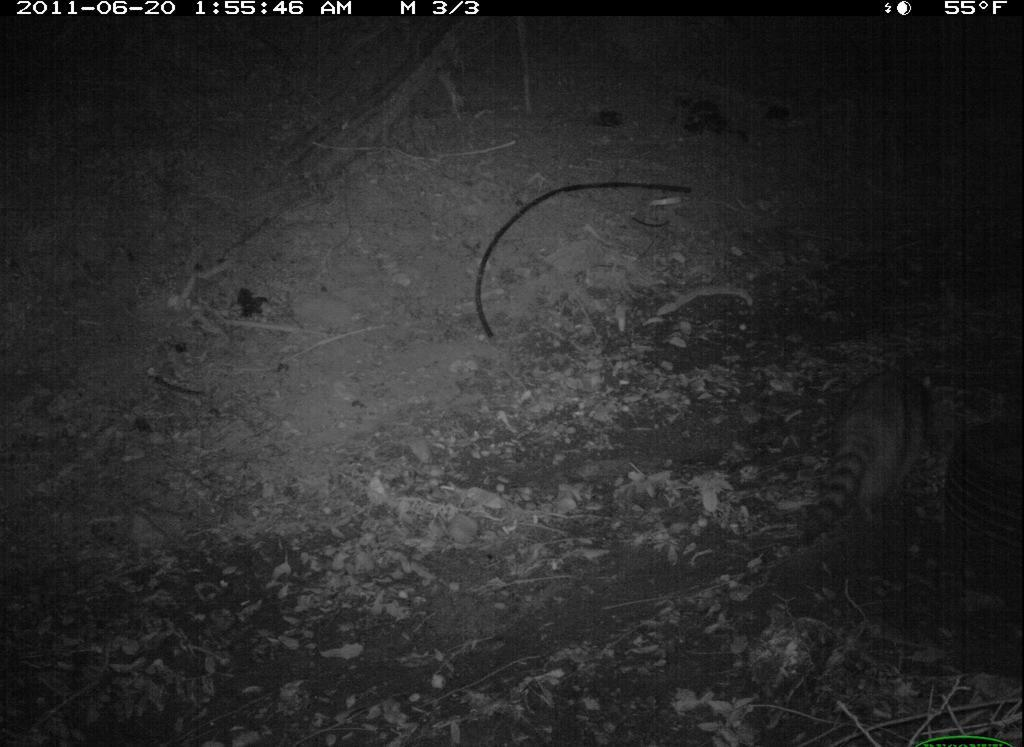raccoon: (794, 362, 939, 551)
